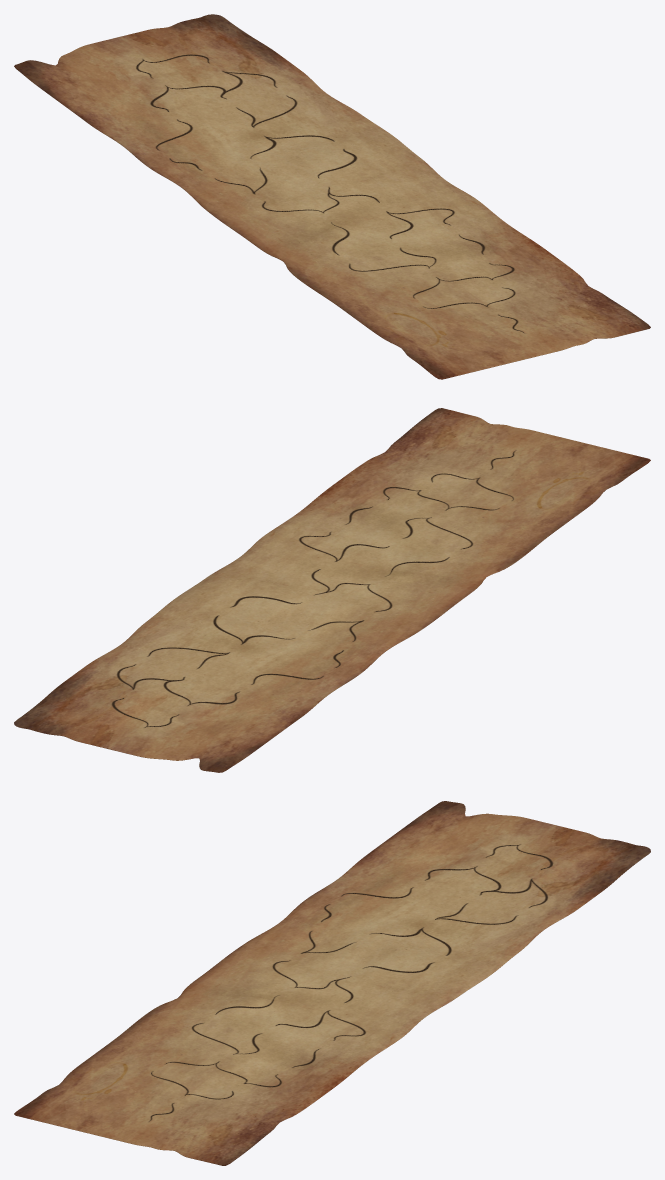
Rendered from Map11.fbx.
3 views of the same model, one above another, from view 1: azimuth 30°, elevation 25°; view 2: azimuth 150°, elevation 25°; view 3: azimuth 330°, elevation 25° (orthographic).
Parts seen in each view (by area): view 1: Map11; view 2: Map11; view 3: Map11.
Part boxes in pixels (box(x1,y1,x2,y2)): Map11: box(14, 14, 650, 379); Map11: box(14, 408, 650, 772); Map11: box(14, 801, 650, 1165).
Size of the model in its own units: 29.14 by 0.7411 by 100.
Materials: 1 (1 with a texture image).
